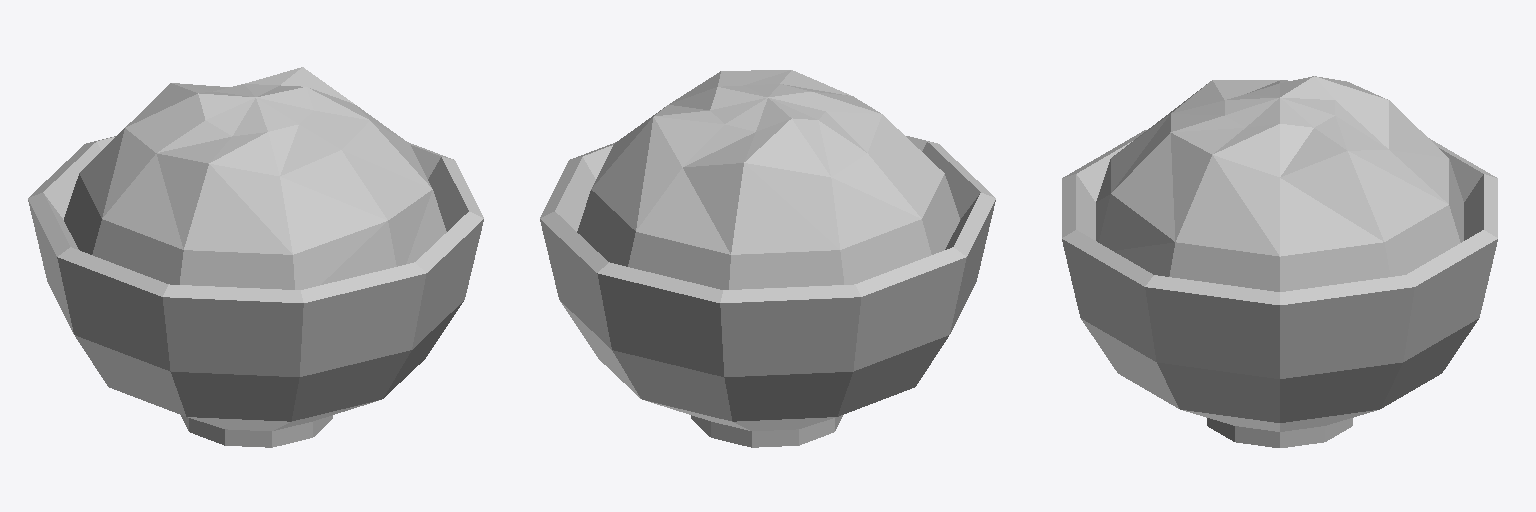
The model's file is Rice_Bowl.OBJ.
3 views of the same model, side by side, from view 1: azimuth 30°, elevation 25°; view 2: azimuth 150°, elevation 25°; view 3: azimuth 270°, elevation 25° (orthographic).
Size of the model in its own units: 0.1083 by 0.0833 by 0.103.